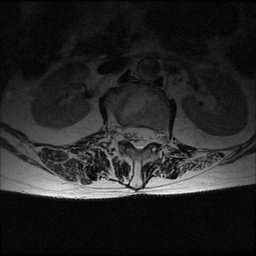CCS_normal: (134, 115, 144, 159)
LFS_normal: (153, 119, 164, 152)
LLS_normal: (144, 115, 153, 152)
RFS_normal: (115, 114, 124, 148)
RLS_normal: (124, 114, 134, 152)
